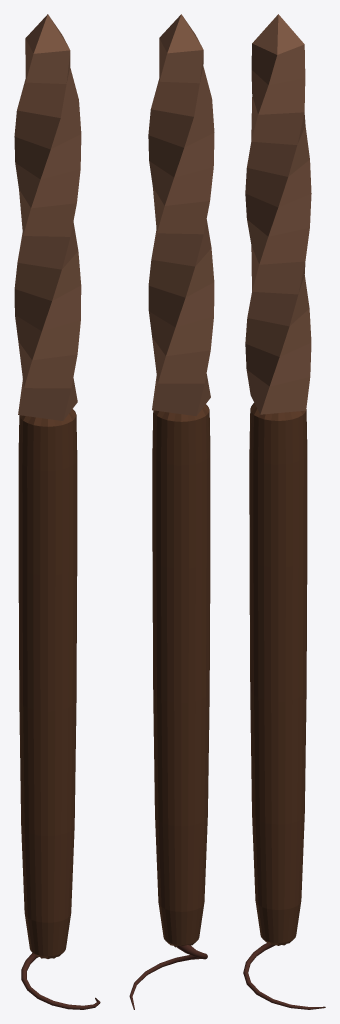
The model's file is Wand 59.glb.
3 views of the same model, side by side, from view 1: azimuth 30°, elevation 25°; view 2: azimuth 210°, elevation 25°; view 3: azimuth 330°, elevation 25° (orthographic).
Parts seen in each view (by area): view 1: GeneratedWand; view 2: GeneratedWand; view 3: GeneratedWand.
Boxes of the visible parts, x1,y1,x2,y2 form: GeneratedWand: [14, 14, 100, 1009]; GeneratedWand: [129, 14, 214, 1009]; GeneratedWand: [243, 14, 325, 1009].
Bounding box in the file's own units: 0.0413 × 0.5106 × 0.0358.
